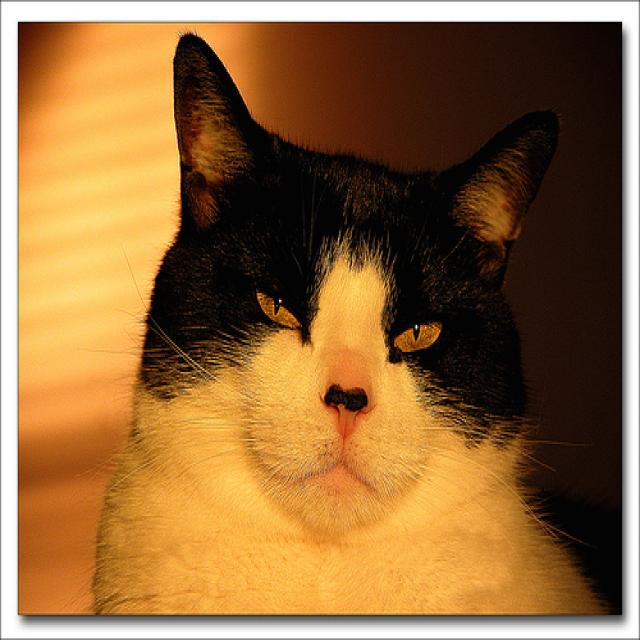left eye: (390, 313, 444, 357)
